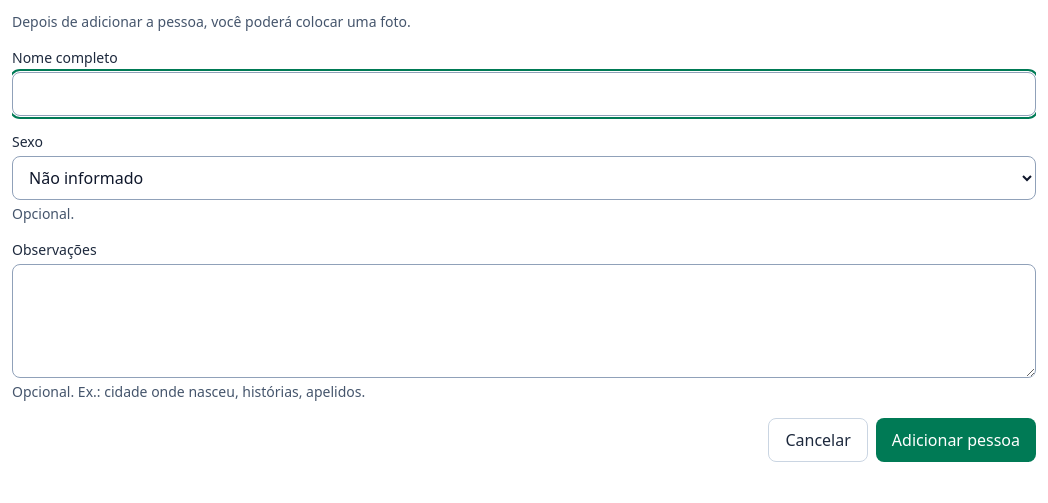
Scenario: PersonForm › mostra erro de campo vindo do servidor
Type "Ana" into the field labelled "Nome completo".
click(524, 94); type("Ana")  # box [12,72,1036,116]
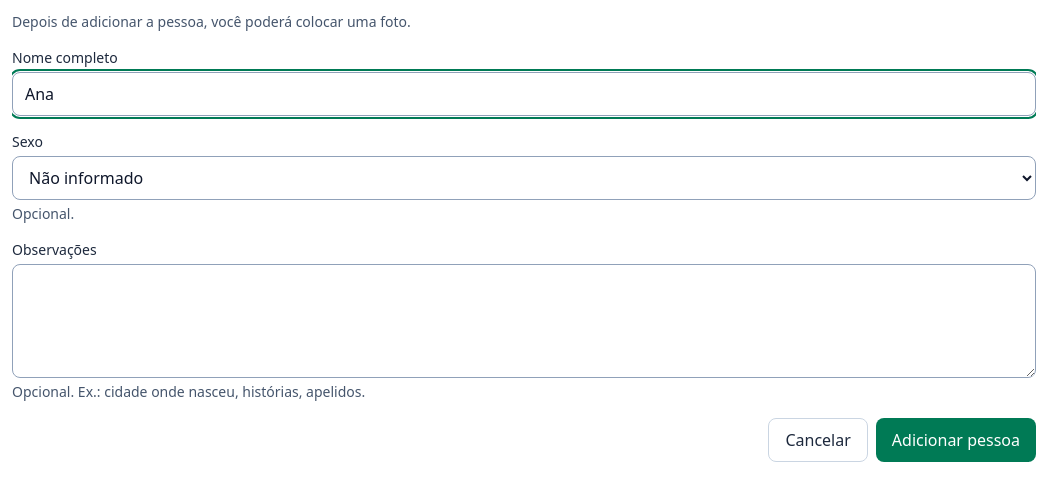
Click the button "Adicionar pessoa".
click(956, 440)  # box [876,418,1036,462]
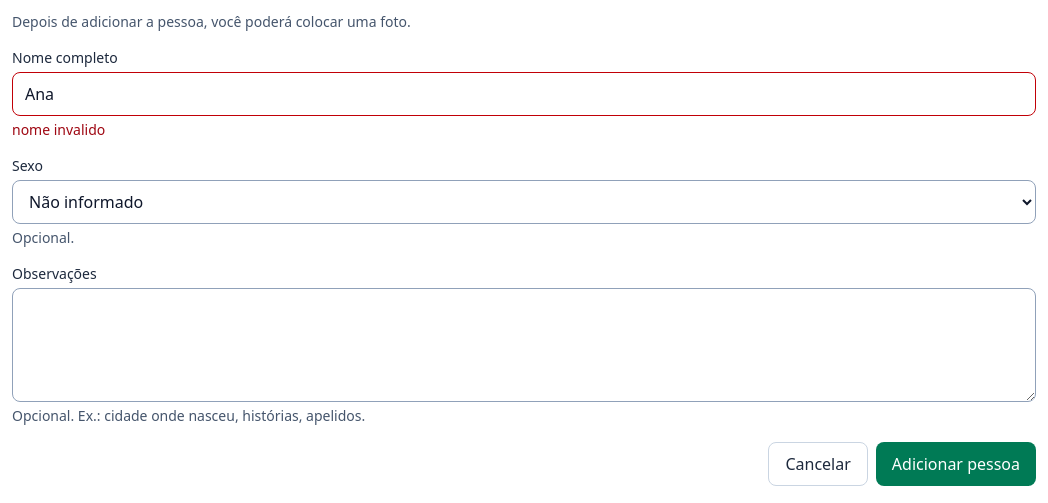
expect the text "nome invalido" is shown: met, box [12,120,105,139]
